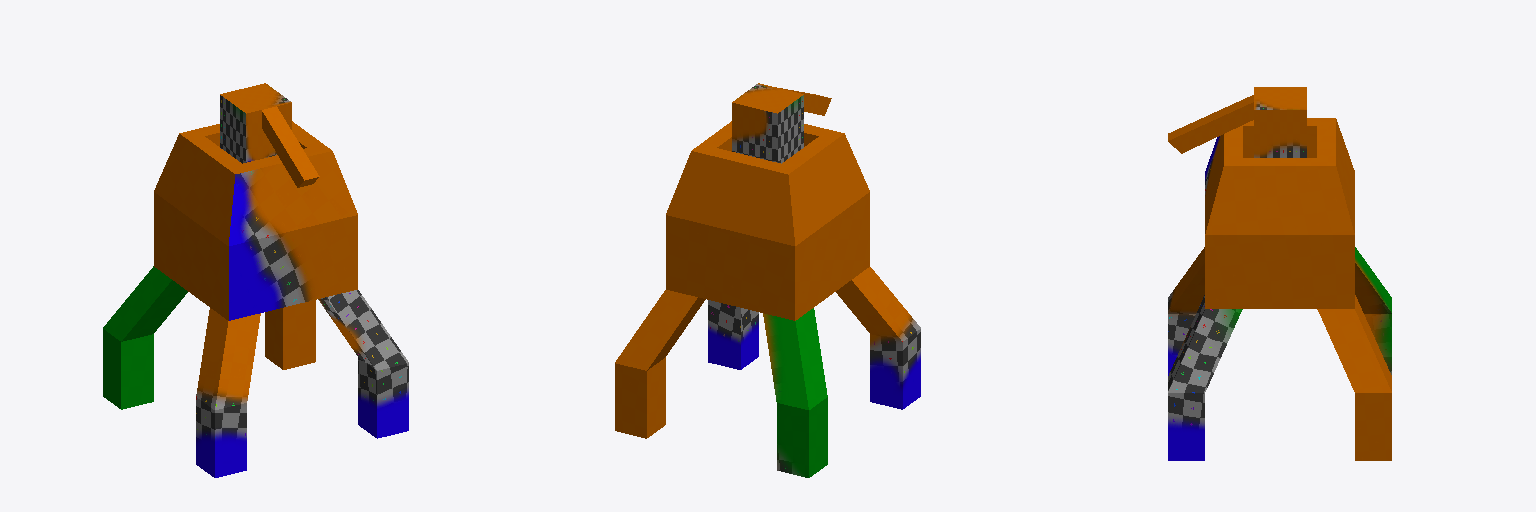
The picture shows the model from 3 angles: view 1: azimuth 30°, elevation 25°; view 2: azimuth 150°, elevation 25°; view 3: azimuth 270°, elevation 25°; orthographic projection.
Parts seen in each view (by area): view 1: base_Cube, gun_Cube.001; view 2: base_Cube, gun_Cube.001; view 3: base_Cube, gun_Cube.001.
Boxes of the visible parts, x1=… form: base_Cube: x1=103, y1=121, x2=408, y2=477; gun_Cube.001: x1=220, y1=83, x2=319, y2=187; base_Cube: x1=615, y1=121, x2=920, y2=477; gun_Cube.001: x1=732, y1=83, x2=831, y2=163; base_Cube: x1=1168, y1=118, x2=1391, y2=460; gun_Cube.001: x1=1168, y1=87, x2=1306, y2=157.
Size of the model in its own units: 3 by 4.64 by 3.
Materials: 3 (1 with a texture image).